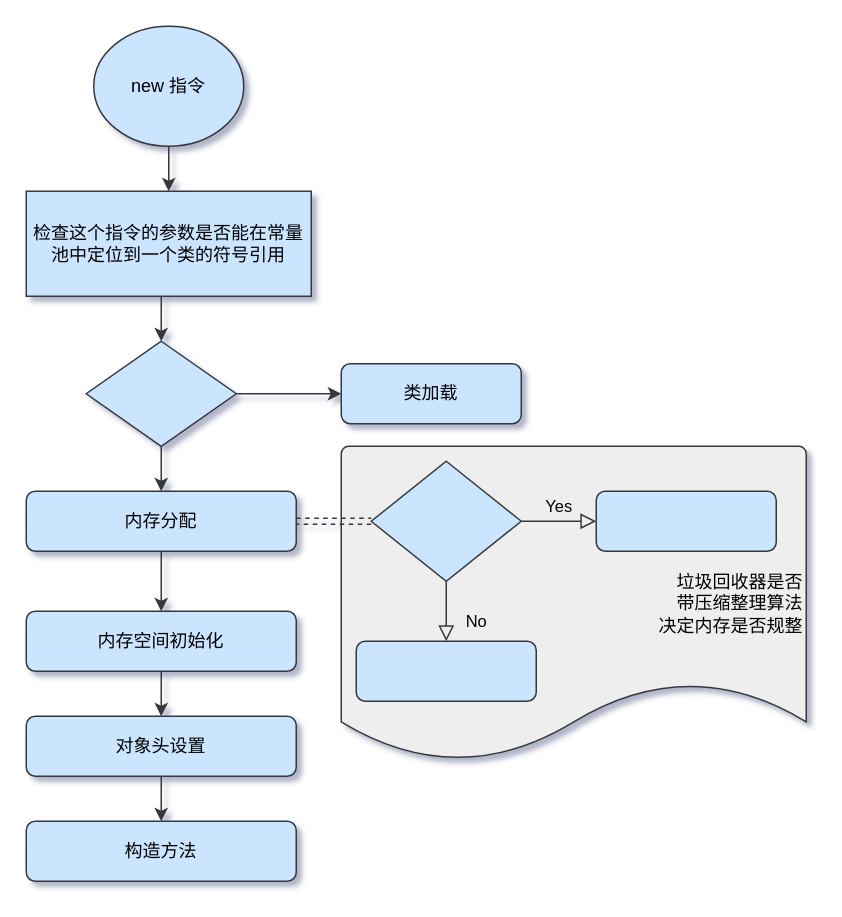
Image size: 842x917. Some labels were removed from this diagram. The shapes that lost their labels are listed below. From the top down, each one's centre as x and y in pixels, then its label:
At point (160, 393): "是否类加载".
At point (445, 520): "内存规整".
At point (685, 520): "指针碰撞".
At point (445, 670): "空闲列表".
